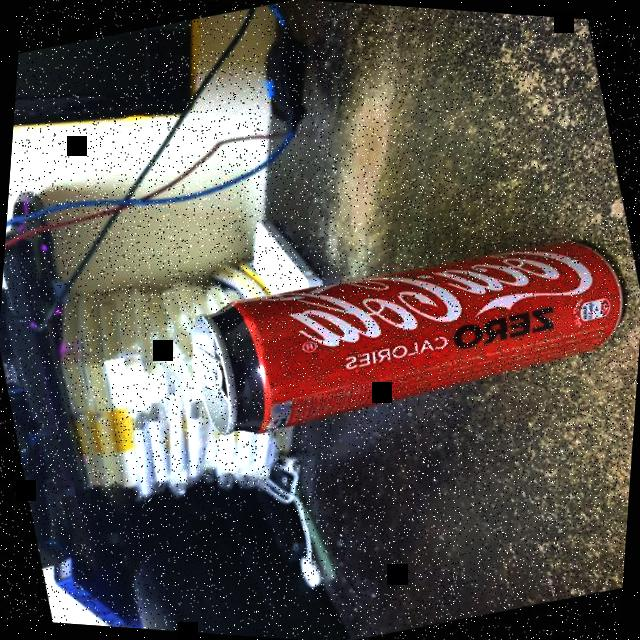can: (177, 209, 633, 467)
